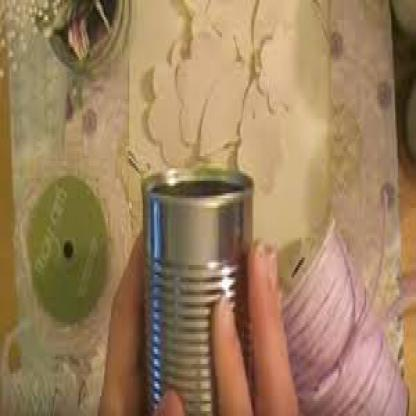METAL: (140, 164, 252, 414)
